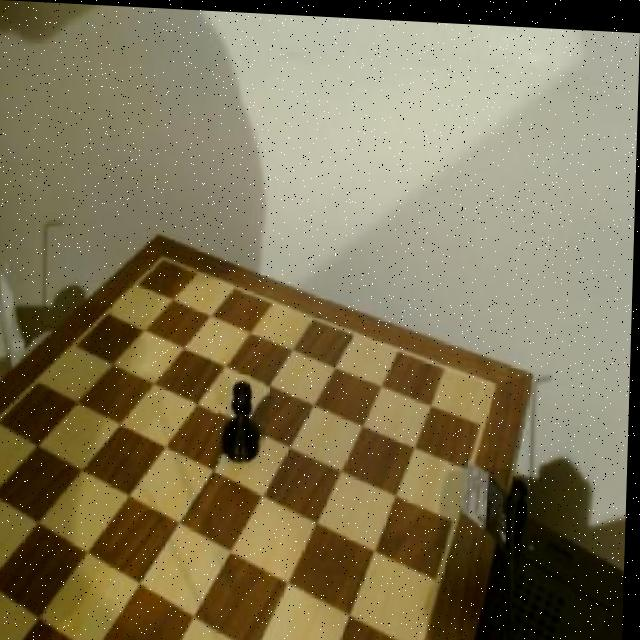black-knight: (217, 370, 270, 463)
